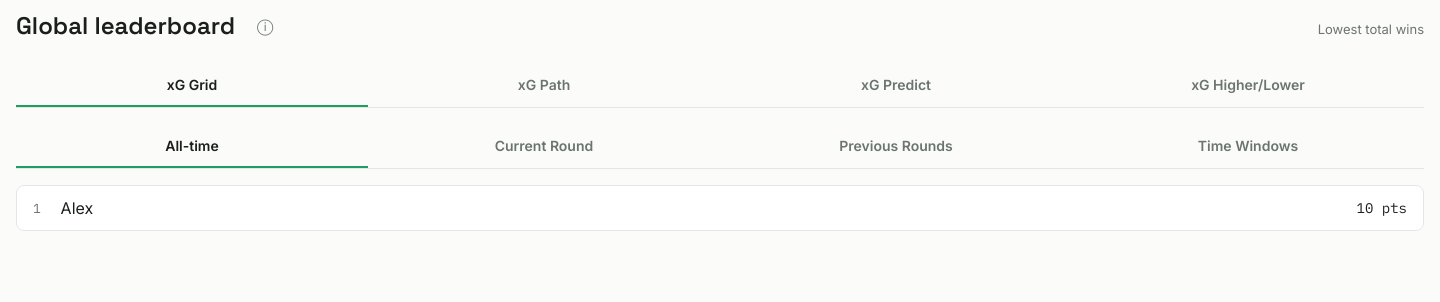
AllTimeLeaderboard › REQ406/407/408: the all-time scope keeps its own existing 15s poll/"Load more" behavior after switching scopes and back
This screenshot has width=1440, height=302.
Expected: the text "10 pts" is shown, [1357,199,1407,217]
Click the tab "Current Round".
click(544, 146)  # box [368,124,720,168]
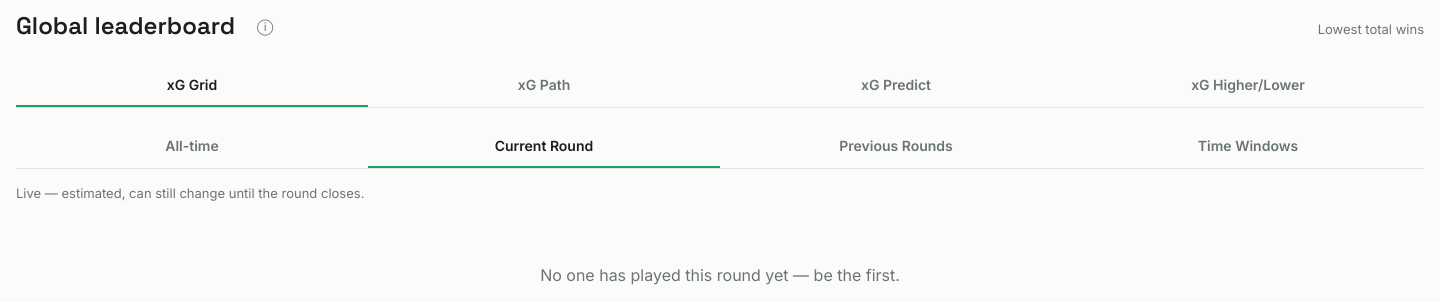
Now the text "No one has played this round yet — be the first." is shown, box [540,265,900,285]
Click the tab "All-time".
click(192, 146)  # box [16,124,368,168]
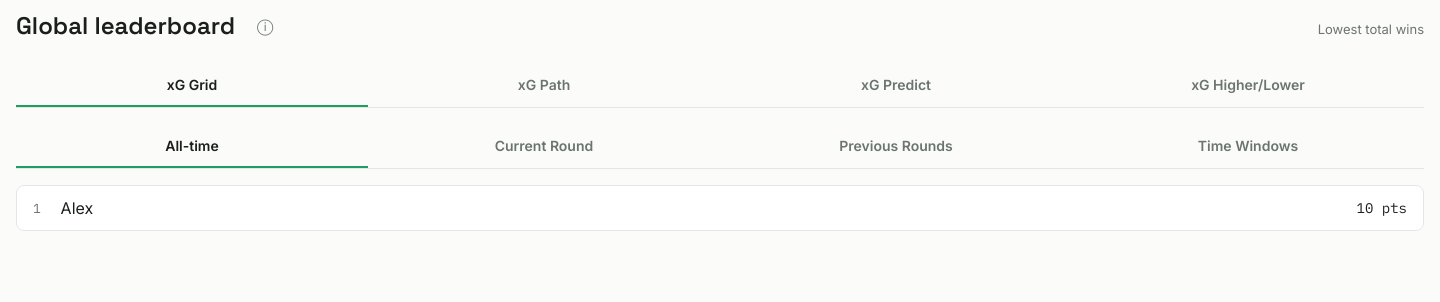
Now the text "Alex" is shown, box [61,198,93,218]
Now the text "10 pts" is shown, box [1357,199,1407,217]
